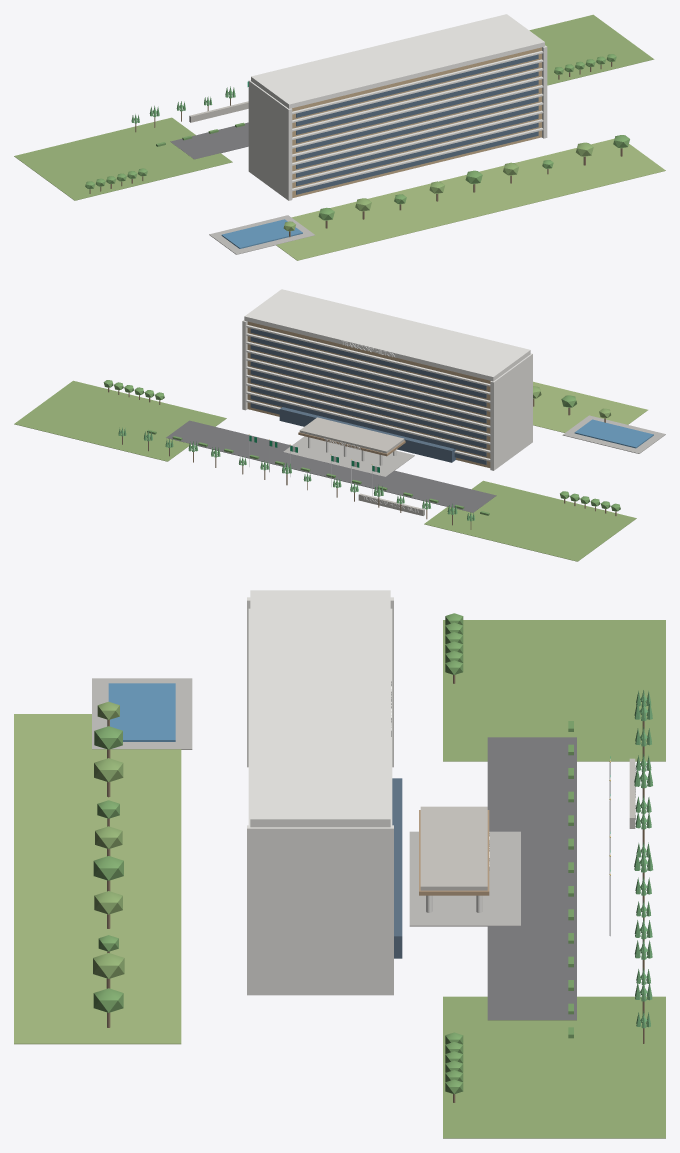
File: transcorp_hilton.glb
3 views of the same model, one above another, from view 1: azimuth 30°, elevation 25°; view 2: azimuth 150°, elevation 25°; view 3: azimuth 270°, elevation 25° (orthographic). The views are drawn at different scales.
Visible parts, largest first — view 1: BLD_transcorp_hilton; view 2: BLD_transcorp_hilton; view 3: BLD_transcorp_hilton.
Part boxes in pixels (x1,y1,x2,y2): BLD_transcorp_hilton: (14,14,665,260); BLD_transcorp_hilton: (14,289,665,561); BLD_transcorp_hilton: (14,590,665,1138).
Bounding box in the file's own units: 220 × 34.6 × 117.
